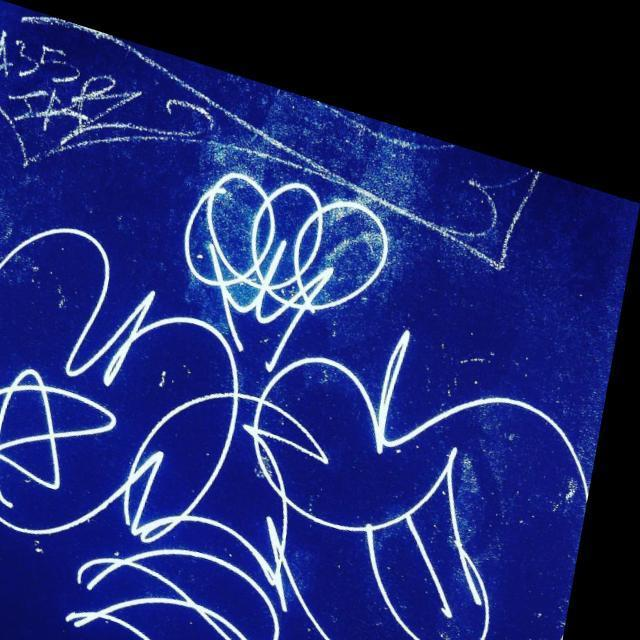-: (0, 90, 628, 640)
